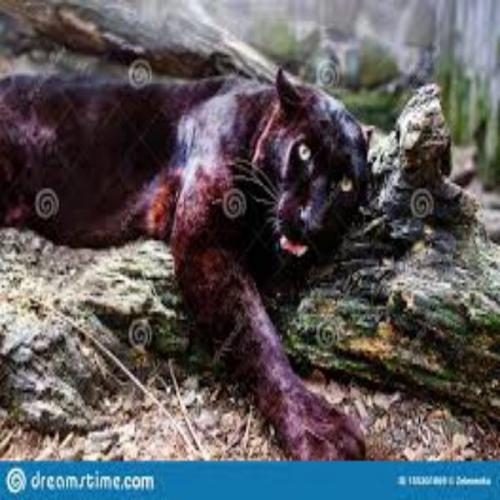panther-endangered: (0, 66, 374, 460)
